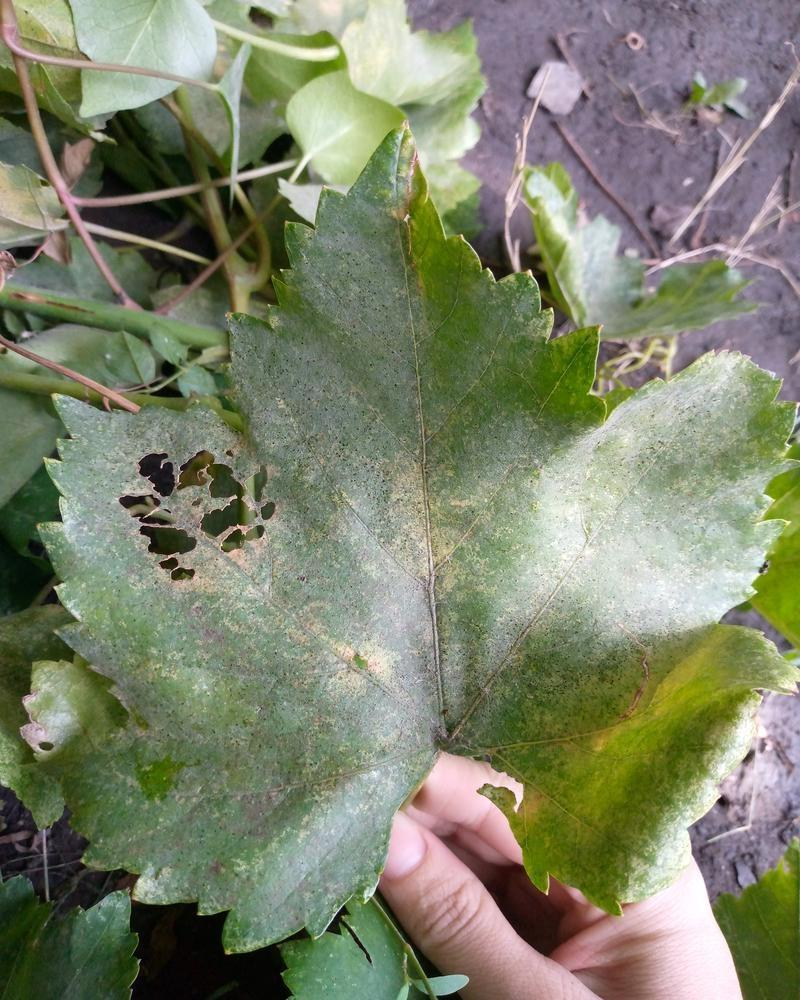Powdery-Mildew: (546, 442, 755, 647), (370, 458, 563, 609), (171, 512, 311, 617), (628, 358, 758, 463), (307, 620, 410, 724), (24, 674, 90, 766)
